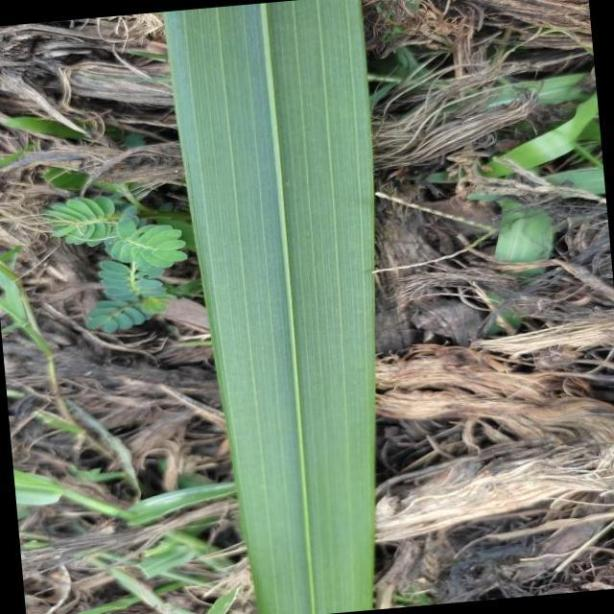Healthy: (162, 0, 375, 610)
